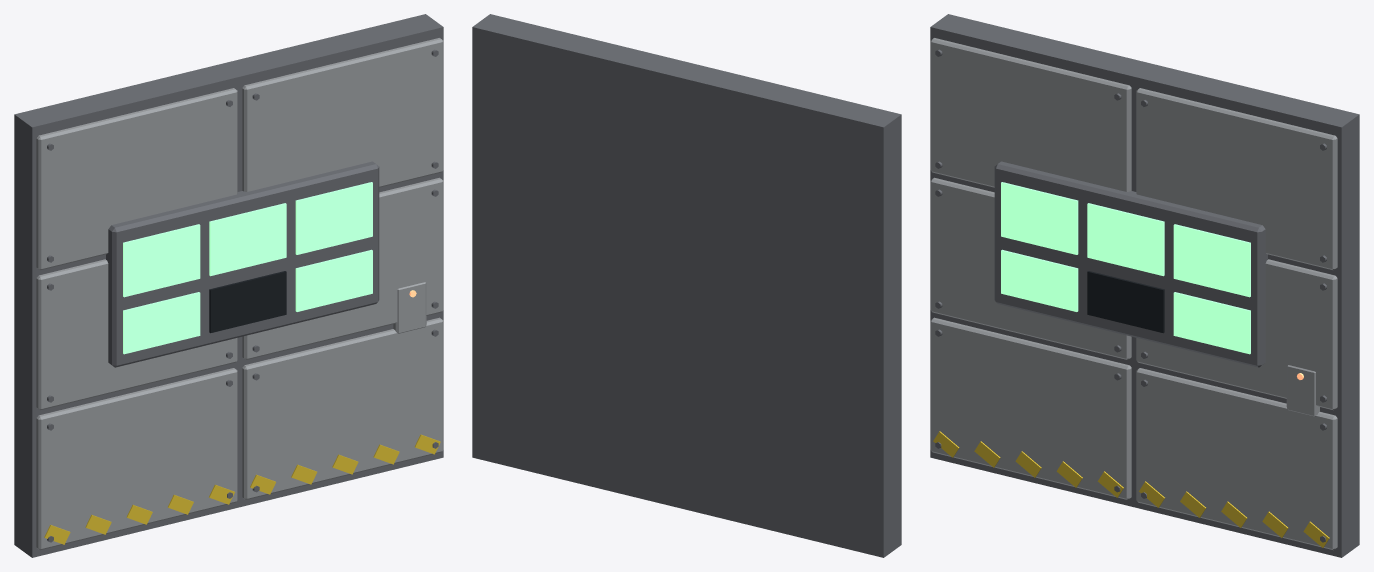
The model's file is wall_hm_steel2.glb.
The picture shows the model from 3 angles, left to right: view 1: azimuth 30°, elevation 25°; view 2: azimuth 150°, elevation 25°; view 3: azimuth 330°, elevation 25°; orthographic projection.
Parts seen in each view (by area): view 1: wall_hm_steel2; view 2: wall_hm_steel2; view 3: wall_hm_steel2.
Part boxes in pixels (x1,y1,x2,y2): wall_hm_steel2: [14, 14, 443, 557]; wall_hm_steel2: [472, 14, 901, 557]; wall_hm_steel2: [930, 14, 1359, 557].
Size of the model in its own units: 4 by 4 by 0.48.
